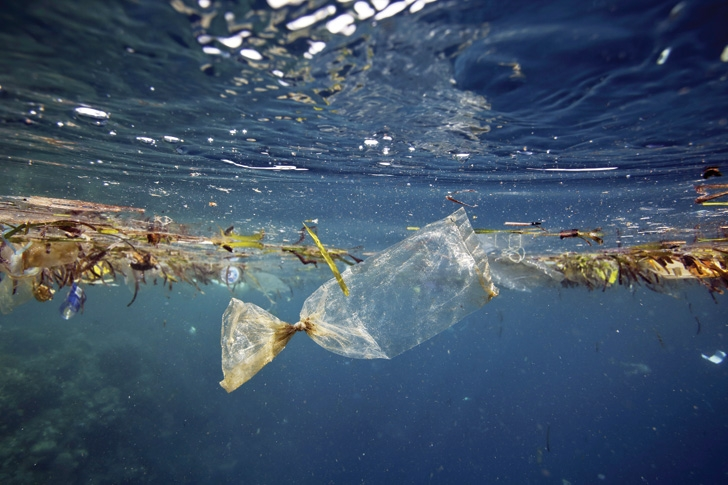plastic bag: (218, 205, 505, 392)
